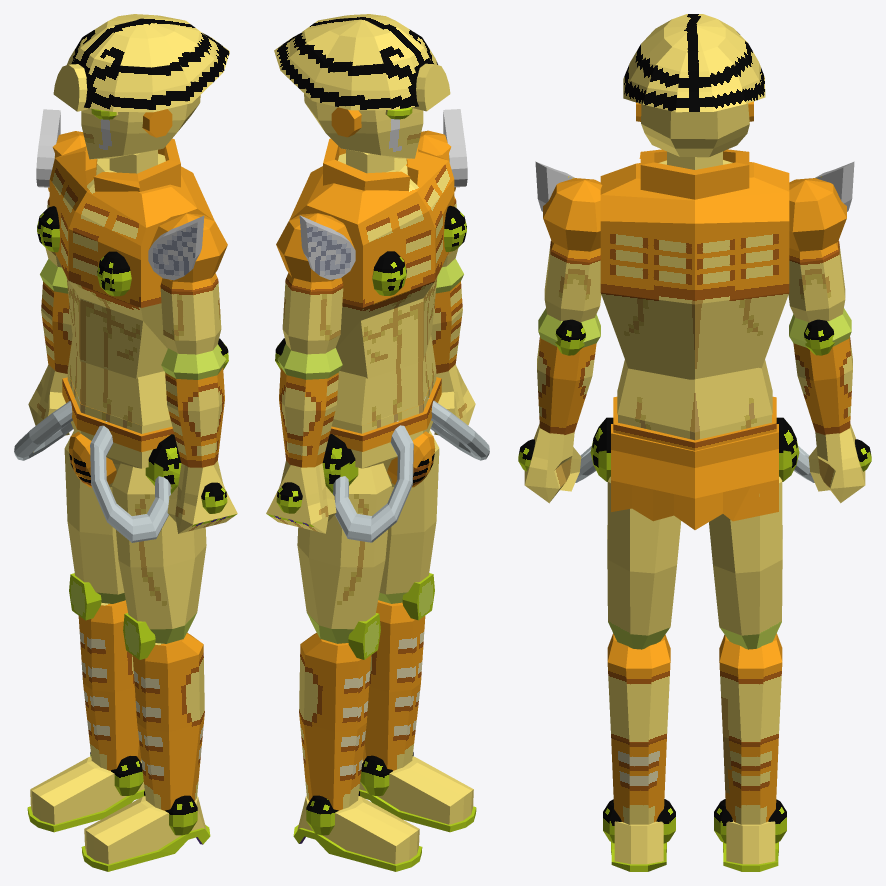
Rendered from GoldA.glb.
3 renders of one model, left to right at view 1: azimuth 30°, elevation 25°; view 2: azimuth 150°, elevation 25°; view 3: azimuth 270°, elevation 25°, orthographic. The views are drawn at different scales.
Visible parts, largest first — view 1: Torso, Cabeça, Pélvis, Perna Baixo E, Perna Cima E, Perna Baixo D, Braço Cima E, Pé E, Braço Baixo E, Pé D, Perna Cima D, Mão E (+3 smaller); view 2: Torso, Cabeça, Pélvis, Perna Baixo D, Perna Cima D, Perna Baixo E, Braço Cima D, Pé D, Braço Baixo D, Pé E, Perna Cima E, Mão D (+3 smaller); view 3: Torso, Pélvis, Cabeça, Perna Baixo E, Perna Baixo D, Perna Cima E, Perna Cima D, Braço Cima E, Braço Cima D, Braço Baixo E, Braço Baixo D, Pé D (+3 smaller).
Part boxes in pixels (x1,y1,x2,y2): Torso: [37, 138, 214, 378]; Cabeça: [53, 14, 229, 159]; Pélvis: [14, 335, 181, 542]; Perna Baixo E: [123, 613, 204, 810]; Perna Cima E: [112, 463, 206, 643]; Perna Baixo D: [69, 573, 141, 770]; Braço Cima E: [148, 213, 227, 354]; Pé E: [81, 791, 210, 871]; Braço Baixo E: [161, 338, 228, 467]; Pé D: [27, 752, 144, 832]; Perna Cima D: [64, 431, 125, 603]; Mão E: [167, 460, 237, 533]; Torso: [289, 138, 466, 378]; Cabeça: [274, 14, 450, 158]; Pélvis: [322, 335, 489, 542]; Perna Baixo D: [299, 613, 380, 810]; Perna Cima D: [297, 463, 391, 643]; Perna Baixo E: [362, 573, 434, 770]; Braço Cima D: [276, 213, 355, 354]; Pé D: [293, 791, 422, 871]; Braço Baixo D: [275, 338, 342, 467]; Pé E: [359, 752, 476, 832]; Perna Cima E: [378, 430, 439, 603]; Mão D: [266, 460, 336, 533]; Torso: [600, 149, 789, 379]; Pélvis: [575, 360, 814, 529]; Cabeça: [623, 14, 765, 157]; Perna Baixo E: [607, 633, 670, 824]; Perna Baixo D: [719, 633, 782, 824]; Perna Cima E: [607, 476, 681, 649]; Perna Cima D: [709, 476, 782, 649]; Braço Cima E: [535, 161, 602, 322]; Braço Cima D: [788, 161, 854, 322]; Braço Baixo E: [537, 308, 600, 434]; Braço Baixo D: [789, 308, 852, 434]; Pé D: [714, 799, 786, 871].
Bounding box in the file's own units: 2.11 × 10.14 × 3.9.
5 materials, 5 textured.
